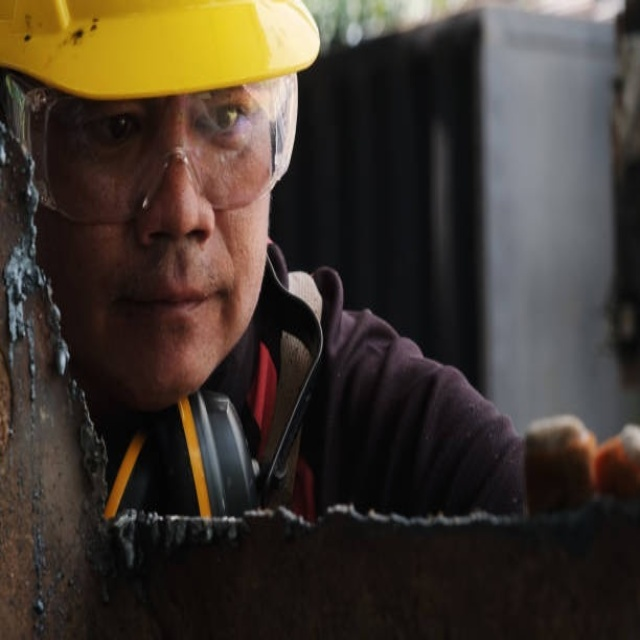Gafas: (7, 67, 296, 218)
Sin_mascara: (95, 260, 222, 376)
